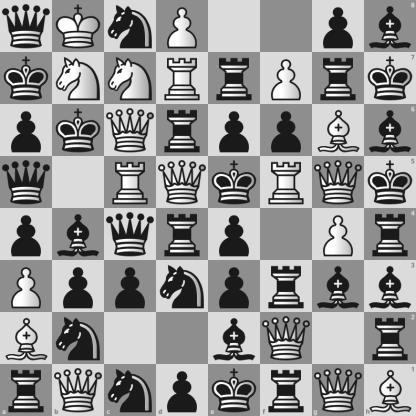B: (364, 364, 416, 416), (1, 313, 52, 364), (313, 105, 364, 156)
K: (53, 1, 104, 52)
N: (53, 53, 104, 104), (105, 53, 156, 104)
P: (1, 261, 52, 312), (157, 1, 208, 52), (261, 53, 312, 104), (313, 209, 364, 260)
Q: (52, 364, 104, 416), (312, 364, 364, 416), (105, 105, 156, 156), (157, 157, 208, 208), (261, 313, 312, 364), (313, 157, 364, 208)
R: (105, 157, 156, 208), (157, 53, 208, 104), (261, 157, 312, 208)
b: (364, 0, 416, 52), (364, 104, 416, 156), (364, 260, 416, 312), (53, 209, 104, 260), (209, 313, 260, 364), (313, 261, 364, 312)
board: (0, 0, 415, 415)
k: (364, 156, 416, 209), (364, 52, 416, 104), (209, 364, 260, 416), (1, 53, 52, 104), (53, 105, 104, 156), (209, 157, 260, 208)
n: (104, 364, 156, 416), (53, 313, 104, 364), (105, 1, 156, 52), (157, 261, 208, 312)
p: (156, 364, 209, 416), (1, 105, 52, 156), (1, 209, 52, 260), (53, 261, 104, 312), (105, 261, 156, 312), (209, 105, 260, 156), (209, 209, 260, 260), (209, 261, 260, 312), (261, 105, 312, 156), (313, 1, 364, 52)
q: (1, 1, 52, 52), (1, 157, 52, 208), (105, 209, 156, 260)
r: (0, 364, 52, 416), (260, 364, 312, 416), (364, 312, 416, 364), (364, 209, 416, 260), (157, 105, 208, 156), (157, 209, 208, 260), (209, 53, 260, 104), (261, 261, 312, 312), (313, 53, 364, 104)
